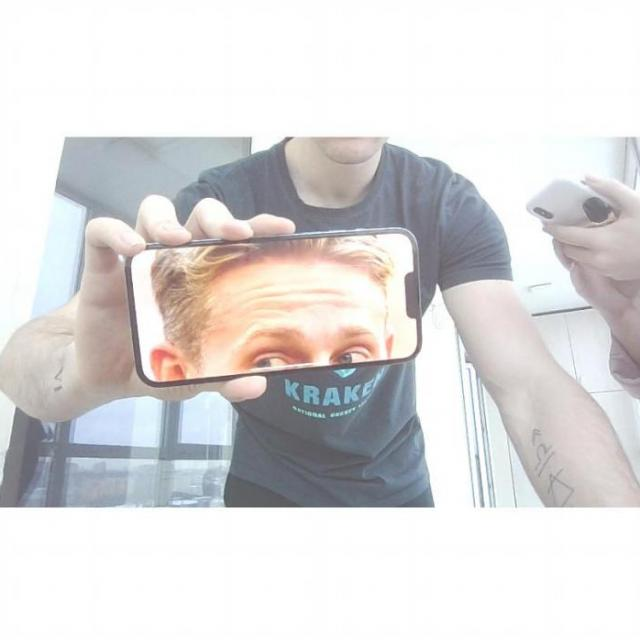device: (122, 227, 426, 390)
